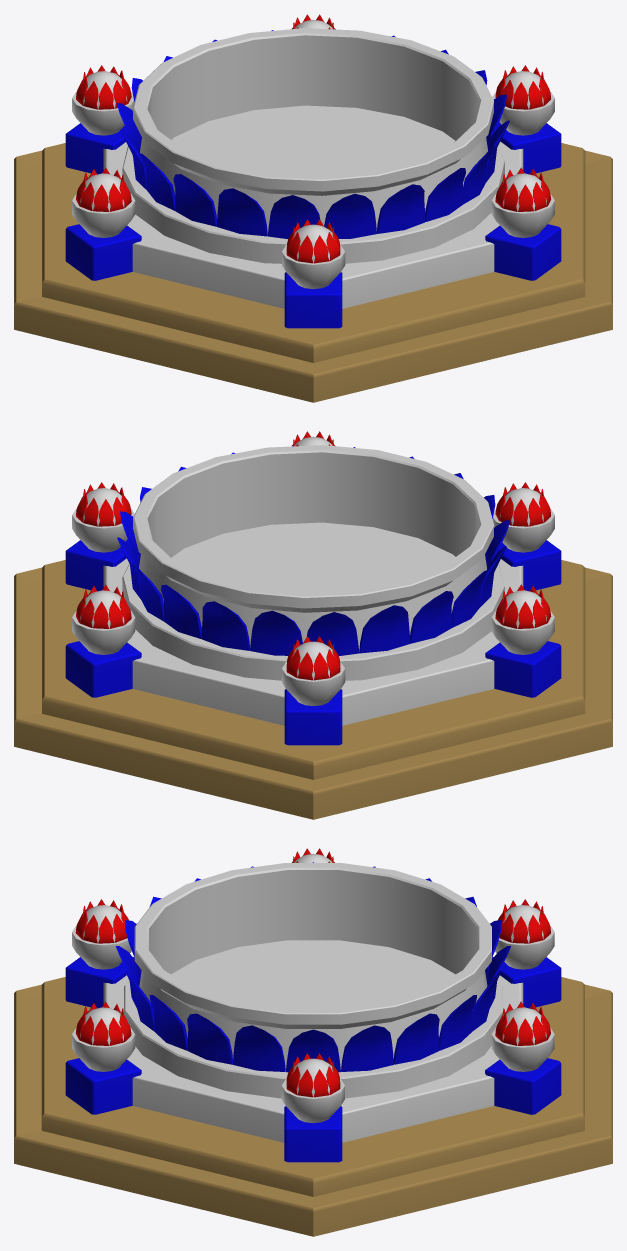
File: Dom_znati_fontan.fbx
3 renders of one model, top to bottom at view 1: azimuth 30°, elevation 25°; view 2: azimuth 150°, elevation 25°; view 3: azimuth 270°, elevation 25°, orthographic.
Parts seen in each view (by area): view 1: Dom_znati_fontan; view 2: Dom_znati_fontan; view 3: Dom_znati_fontan.
Part boxes in pixels (x1=…): Dom_znati_fontan: x1=14, y1=14, x2=612, y2=402; Dom_znati_fontan: x1=14, y1=431, x2=612, y2=819; Dom_znati_fontan: x1=14, y1=848, x2=612, y2=1236.
Size of the model in its own units: 30.62 by 7.46 by 26.51.
